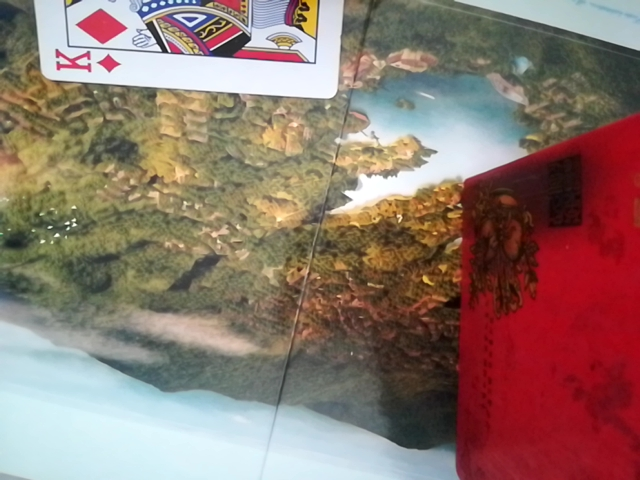fk k: (34, 4, 347, 100)
